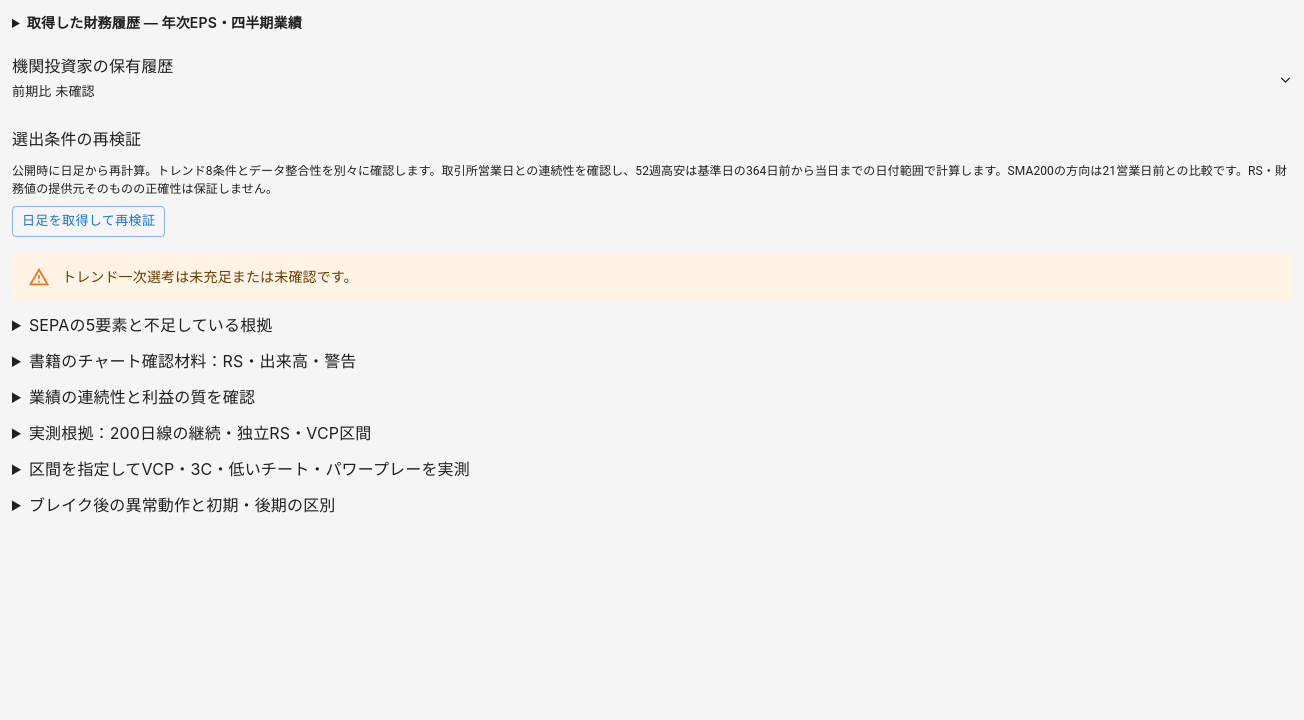
Scenario: fetches daily evidence on request and refuses a wrong-symbol payload
Click the button "日足を取得して再検証".
click(89, 221)  # box [12,206,165,237]
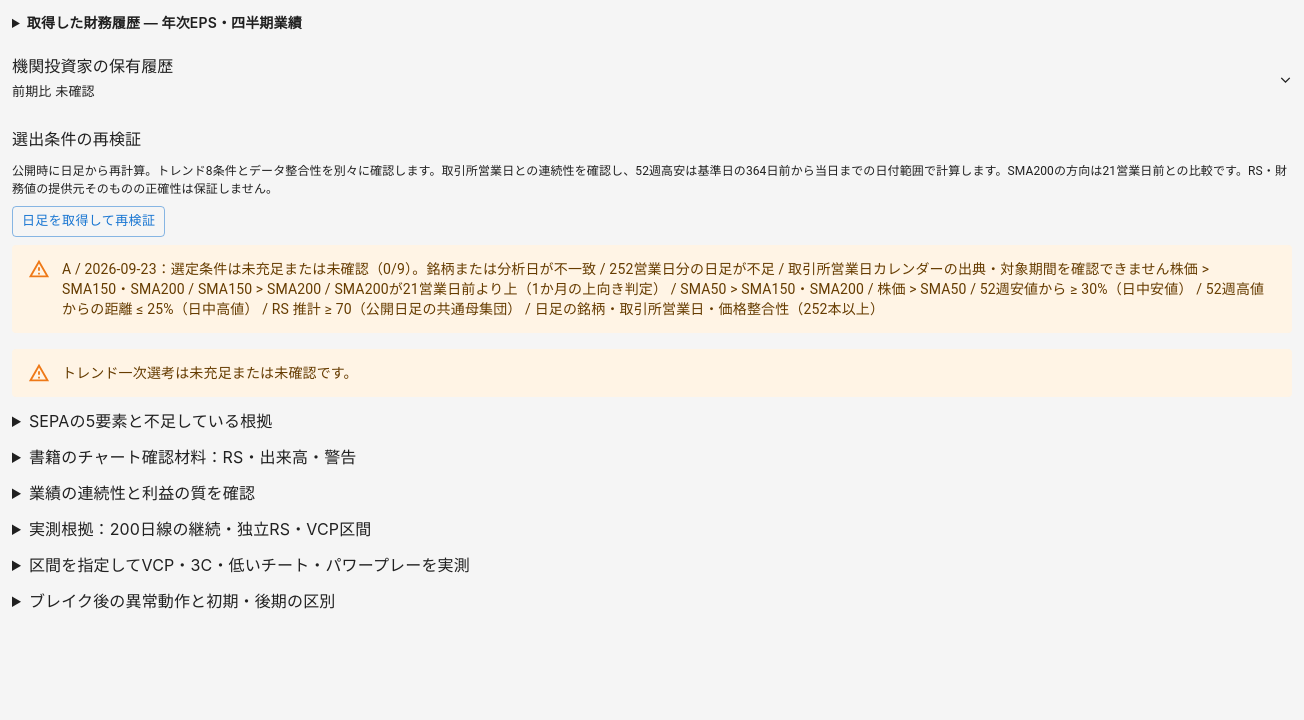
Result: the message shows "選定条件は未充足または未確認" at [171,260,369,276]
Result: the message shows "銘柄または分析日が不一致" at [426,260,1170,276]
